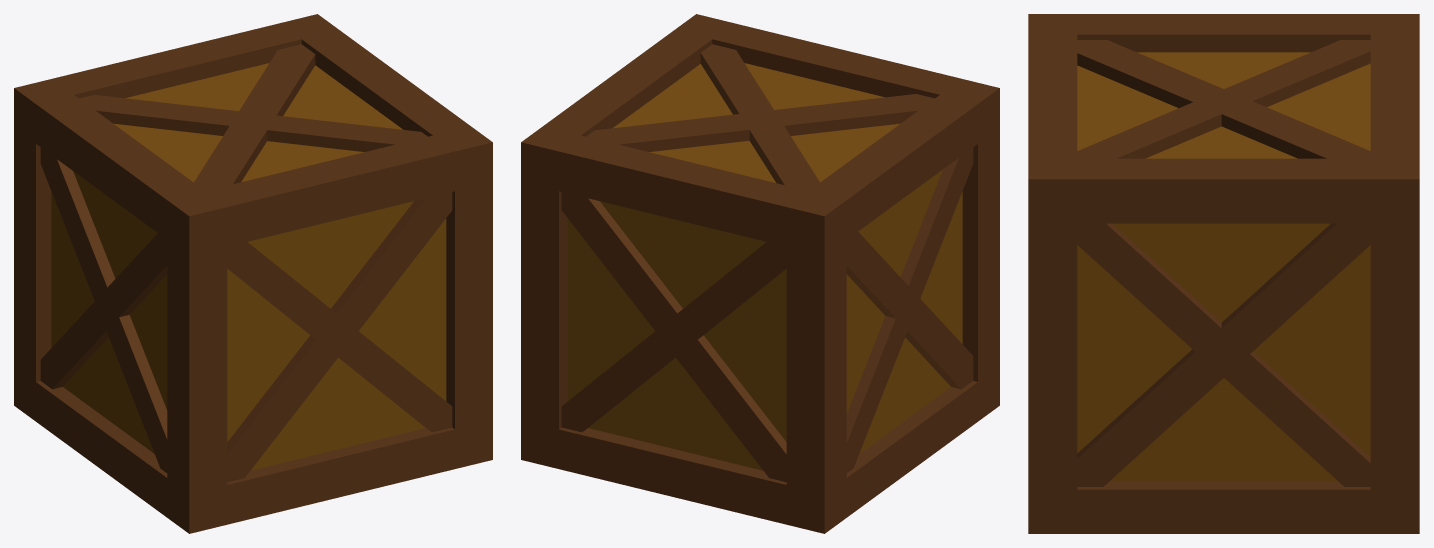
The model's file is wooden_crate.glb.
3 renders of one model, left to right at view 1: azimuth 30°, elevation 25°; view 2: azimuth 150°, elevation 25°; view 3: azimuth 270°, elevation 25°, orthographic. The views are drawn at different scales.
Parts seen in each view (by area): view 1: Frame, Face6, Face6Cross, Face3Cross, Face4Cross, Face3, Face4; view 2: Frame, Face5, Face5Cross, Face4Cross, Face3, Face3Cross, Face4; view 3: Frame, Face1, Face1Cross, Face4Cross, Face4.
Boxes of the visible parts, bbox=[...] form: Frame: bbox=[14, 14, 492, 533]; Face6: bbox=[227, 201, 446, 470]; Face6Cross: bbox=[227, 192, 452, 482]; Face3Cross: bbox=[40, 147, 167, 472]; Face4Cross: bbox=[79, 44, 427, 190]; Face3: bbox=[51, 171, 167, 453]; Face4: bbox=[114, 63, 402, 182]; Frame: bbox=[521, 14, 999, 533]; Face5: bbox=[567, 201, 786, 470]; Face5Cross: bbox=[561, 192, 786, 482]; Face4Cross: bbox=[586, 44, 934, 190]; Face3: bbox=[846, 170, 962, 453]; Face3Cross: bbox=[846, 147, 973, 472]; Face4: bbox=[613, 63, 899, 182]; Frame: bbox=[1028, 14, 1419, 533]; Face1: bbox=[1077, 223, 1370, 481]; Face1Cross: bbox=[1077, 223, 1370, 486]; Face4Cross: bbox=[1077, 40, 1370, 158]; Face4: bbox=[1077, 52, 1370, 158].
Size of the model in its own units: 2 by 2 by 2.
